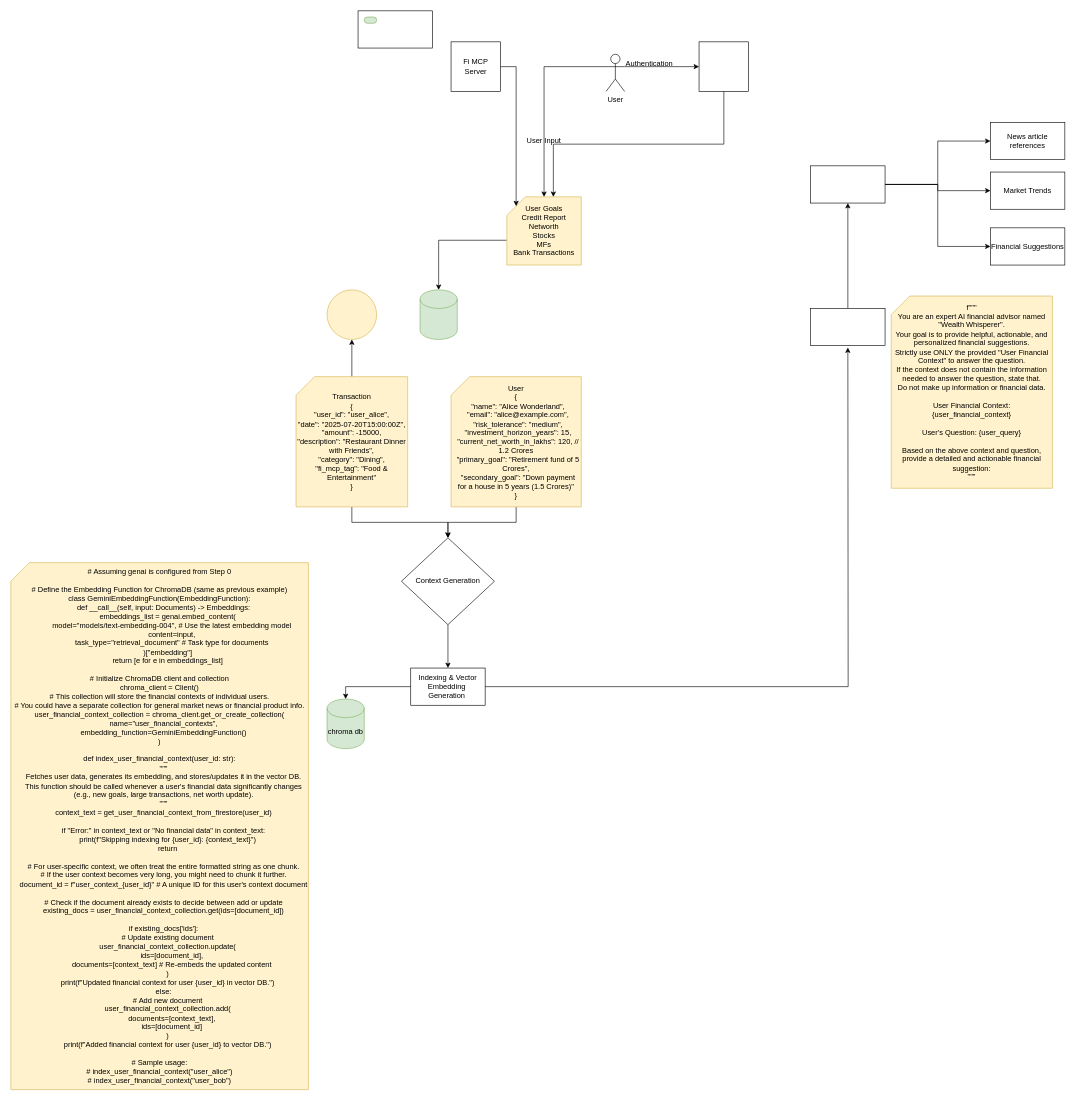
The diagram is 1076 pixels wide and 1101 high, and some of its shapes have lost their labels. The centre of each missing label's shape, as x and y in pixels:
Datastore: the point at 394,29
Firebase: the point at 438,314
Gemini API: the point at 847,184
Prompt: the point at 847,327
Recent Behaviour: the point at 351,314
User Dashboard: the point at 723,66
